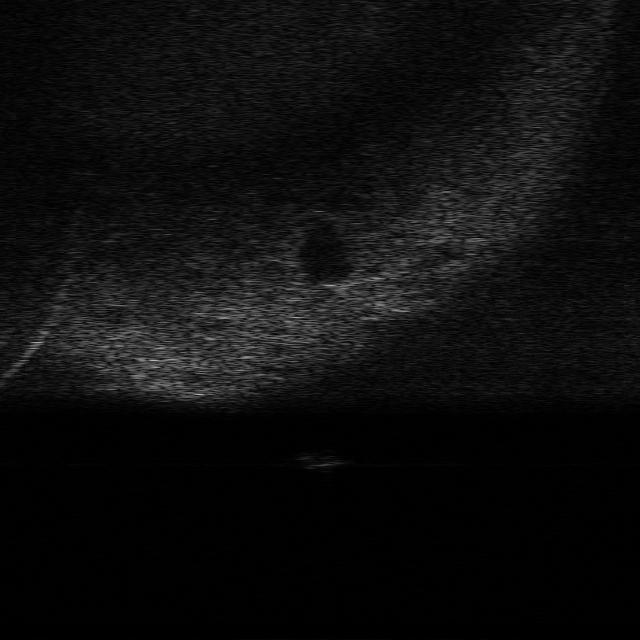cube: (292, 450, 344, 472)
